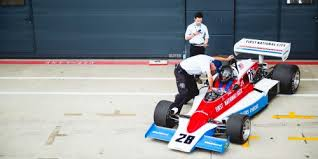FormulaOneCar: (140, 34, 307, 156)
